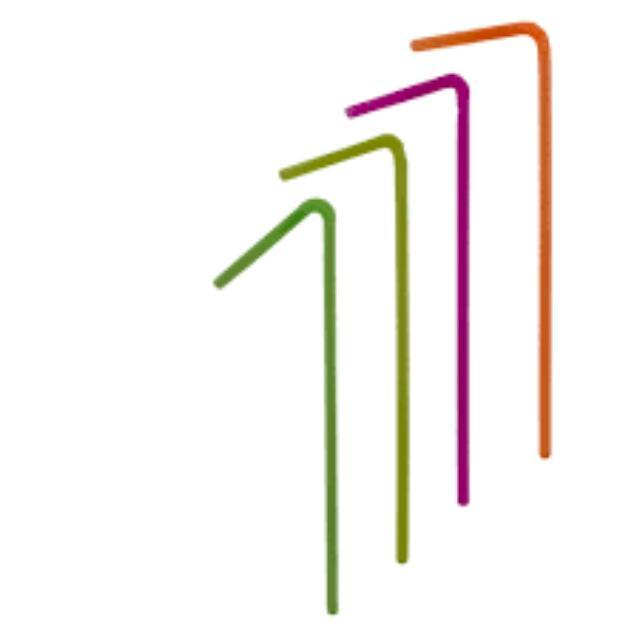Plastico descartable: (411, 22, 552, 458), (279, 134, 410, 562), (346, 74, 470, 504), (214, 199, 336, 613)
